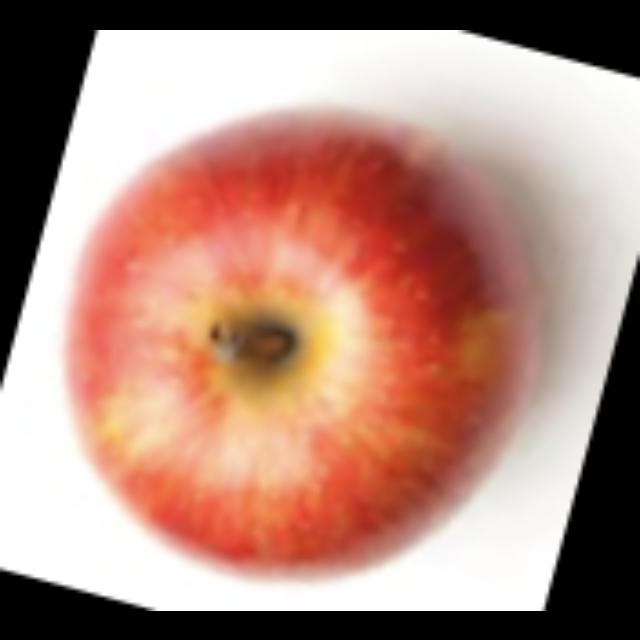Apel Segar: (48, 87, 556, 597)
